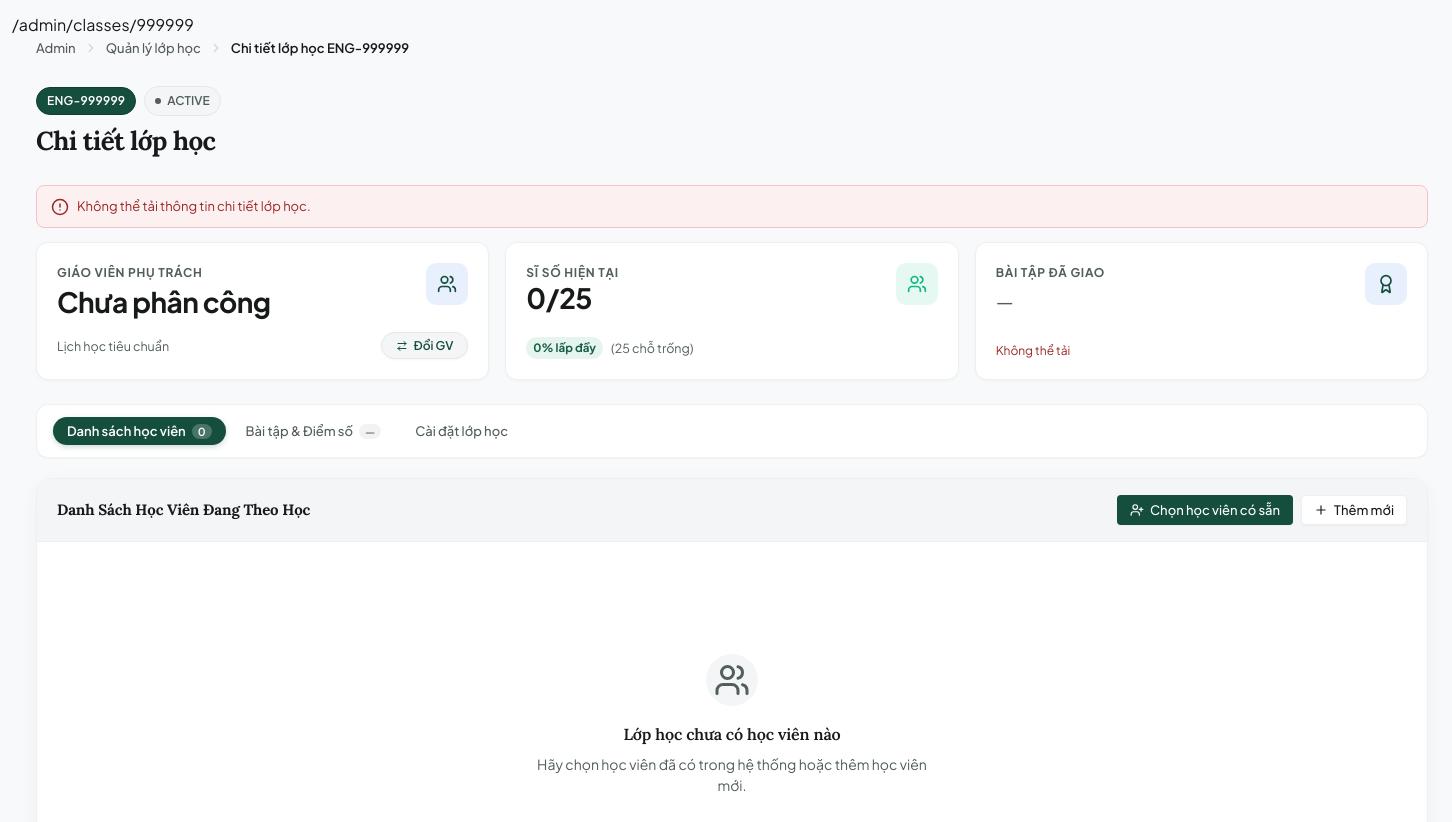
Test: keeps the requested valid ID when the class APIs return 404 and does not show empty assignments
Expected: the text "Không thể tải thông tin chi tiết lớp học." is shown, [77, 196, 311, 217]
Click the button "Bài tập & Điểm số —" at (313, 431), box [232, 417, 395, 445]
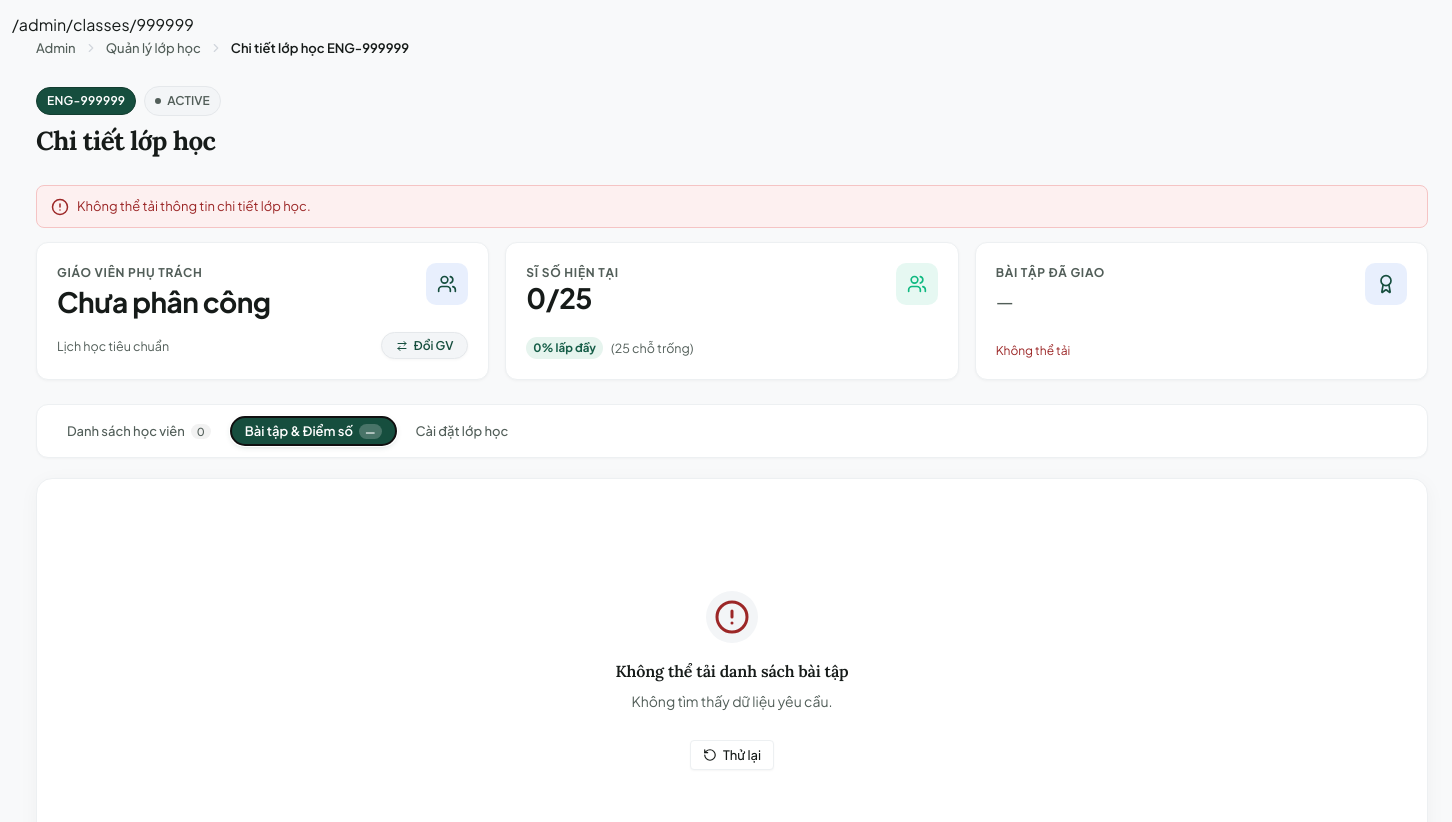
Expected: the heading "Không thể tải danh sách bài tập" is shown, [616, 659, 848, 685]
